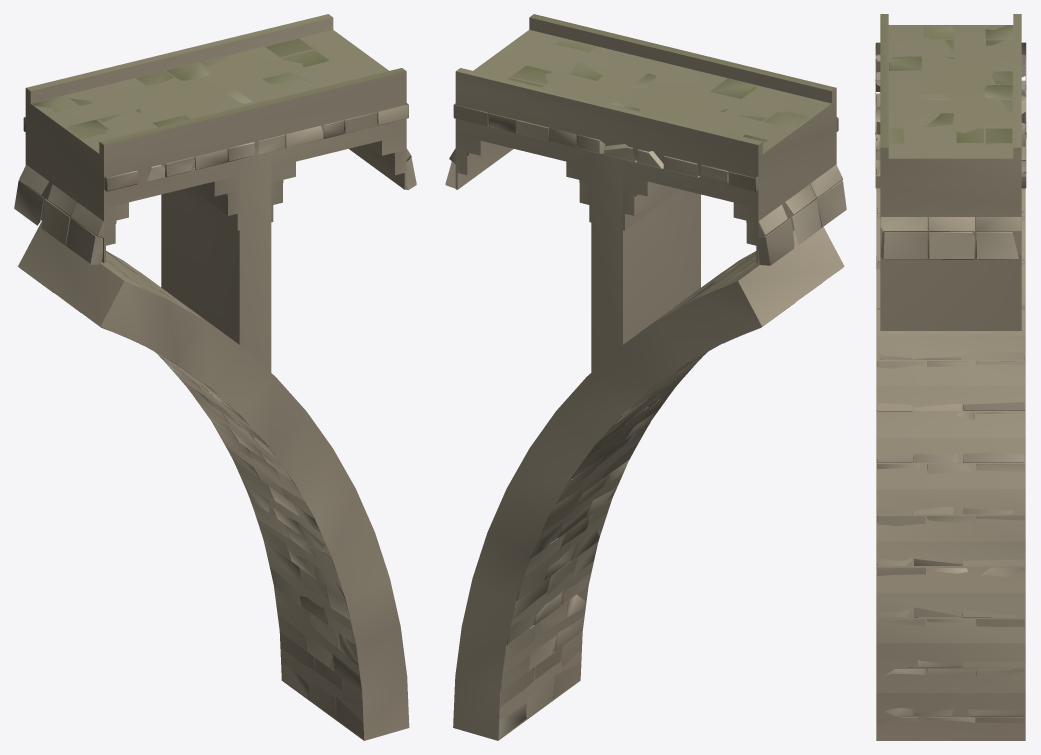
Rendered from bridge_haunch.glb.
The picture shows the model from 3 angles, left to right: view 1: azimuth 30°, elevation 25°; view 2: azimuth 150°, elevation 25°; view 3: azimuth 270°, elevation 25°; orthographic projection. The views are drawn at different scales.
Visible parts, largest first — view 1: bridge_haunch_far, bridge_haunch; view 2: bridge_haunch_far, bridge_haunch; view 3: bridge_haunch_far, bridge_haunch.
Part boxes in pixels (<box>): bridge_haunch_far: <box>18,14,409,740</box>; bridge_haunch: <box>14,38,416,738</box>; bridge_haunch_far: <box>453,14,844,740</box>; bridge_haunch: <box>445,38,846,738</box>; bridge_haunch_far: <box>876,14,1025,740</box>; bridge_haunch: <box>875,25,1026,724</box>.
Bounding box in the file's own units: 36.15 × 69.52 × 15.99.
